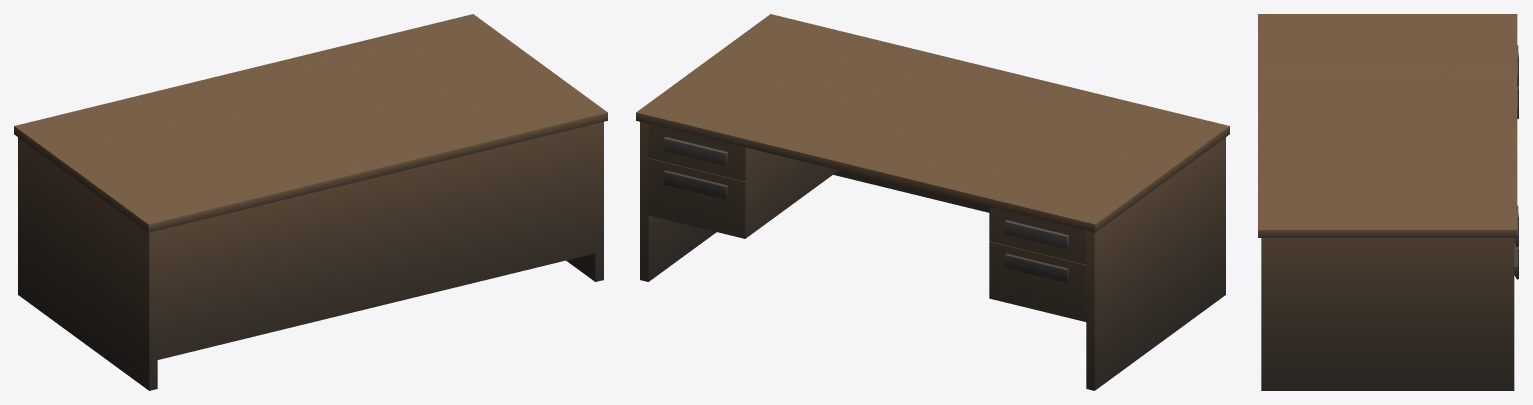
The model's file is Table_OfficeDesk2.fbx.
3 renders of one model, left to right at view 1: azimuth 30°, elevation 25°; view 2: azimuth 150°, elevation 25°; view 3: azimuth 270°, elevation 25°, orthographic. The views are drawn at different scales.
Parts seen in each view (by area): view 1: Table_OfficeDesk2; view 2: Table_OfficeDesk2; view 3: Table_OfficeDesk2.
Part boxes in pixels (x1=…): Table_OfficeDesk2: x1=14, y1=14, x2=607, y2=390; Table_OfficeDesk2: x1=636, y1=14, x2=1229, y2=390; Table_OfficeDesk2: x1=1258, y1=14, x2=1518, y2=390.
Bounding box in the file's own units: 210 × 73.44 × 107.
